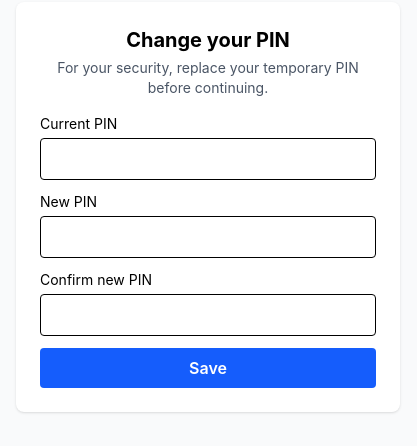
Test: ChangeCredential › surfaces a wrong-current-secret error (and does not log out)
This screenshot has width=417, height=446.
In the password field labelled "Current PIN": (208, 159) [40, 138, 376, 180], type "0000"
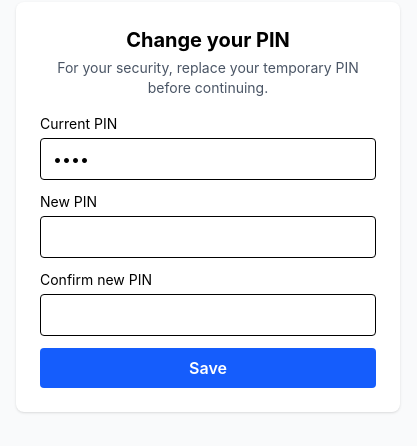
In the password field labelled "New PIN": (208, 237) [40, 216, 376, 258], type "5678"
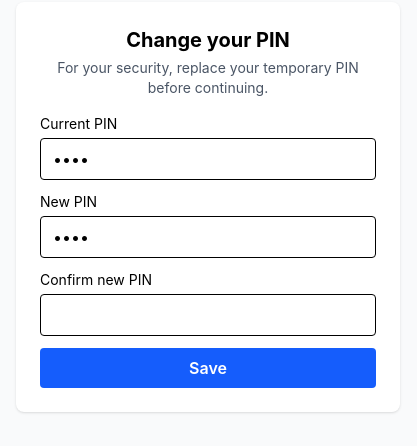
In the password field labelled "Confirm new PIN": (208, 315) [40, 294, 376, 336], type "5678"
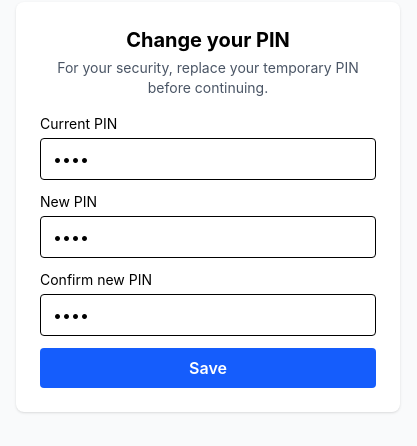
Click the button "Save": (208, 368) [40, 348, 376, 388]
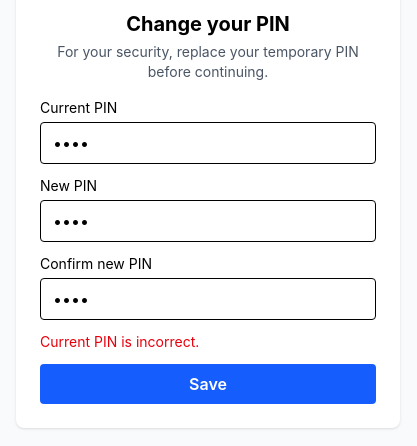
Check: the text "Current PIN is incorrect." is shown, box [40, 333, 199, 350]
